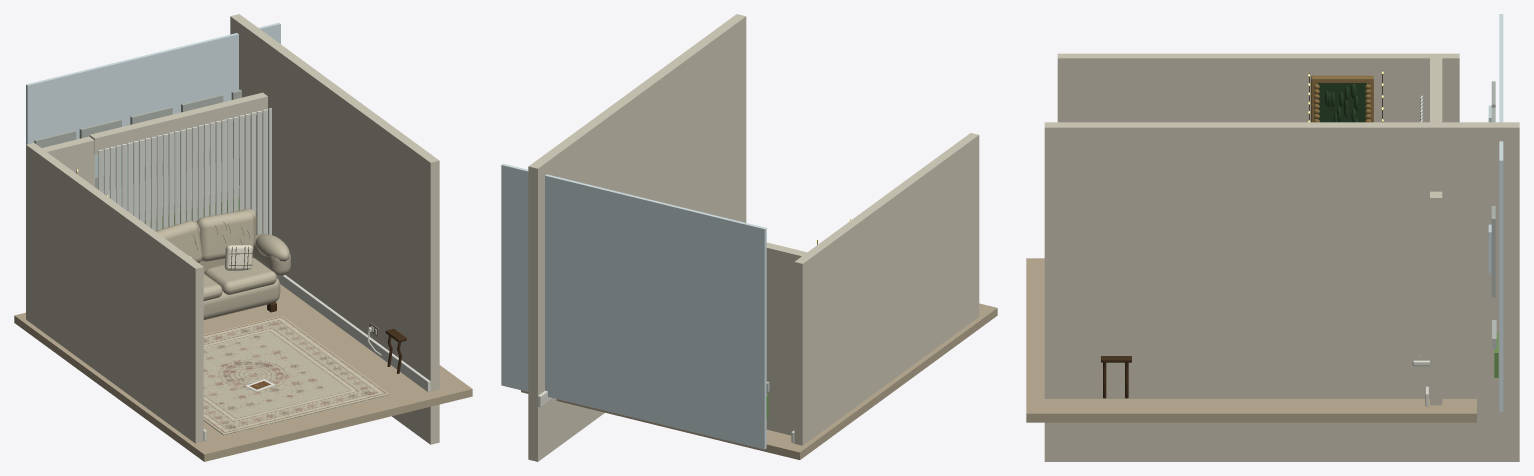
The model's file is living_room_astra.glb.
The picture shows the model from 3 angles, left to right: view 1: azimuth 30°, elevation 25°; view 2: azimuth 150°, elevation 25°; view 3: azimuth 270°, elevation 25°; orthographic projection. The views are drawn at different scales.
Visible parts, largest first — view 1: Foreground right wall return, Left wall, Daylight beyond window, Large patterned rug, Visible carpet floor, Back wall lintel, Loose leather back cushion 1, Right return skirting, Sofa upholstered lower body, Seat cushion 1, Back wall left pier, Loose leather back cushion 0 (+29 smaller); view 2: Daylight beyond window, Left wall, Foreground right wall return, Back wall left pier, Visible carpet floor; view 3: Foreground right wall return, Left wall, Visible carpet floor, Back wall right pier, Daylight beyond window, Picture dark background, Ornate picture frame horizontal.001, Back wall lintel.
Part boxes in pixels (x1,y1,x2,y2): Foreground right wall return: (230,14,439,444); Left wall: (26,143,203,443); Daylight beyond window: (26,22,280,219); Large patterned rug: (203,316,388,435); Visible carpet floor: (14,284,472,461); Back wall lintel: (89,92,267,154); Loose leather back cushion 1: (197,210,254,261); Right return skirting: (276,275,430,391); Sofa upholstered lower body: (203,272,280,319); Seat cushion 1: (204,258,276,294); Back wall left pier: (42,136,94,186); Loose leather back cushion 0: (155,221,202,262); Daylight beyond window: (501,163,766,449); Left wall: (794,133,979,445); Foreground right wall return: (528,14,746,461); Back wall left pier: (766,242,806,435); Visible carpet floor: (521,303,997,459); Foreground right wall return: (1044,122,1519,461); Left wall: (1057,53,1459,122); Visible carpet floor: (1026,258,1476,422); Back wall right pier: (1430,191,1442,405); Daylight beyond window: (1499,14,1503,411); Picture dark background: (1317,83,1367,122); Ornate picture frame horizontal.001: (1311,75,1373,83); Back wall lintel: (1430,84,1442,191).
Bounding box in the file's own units: 5.45 × 5.32 × 7.11.
Materials: 22 (1 with a texture image).
